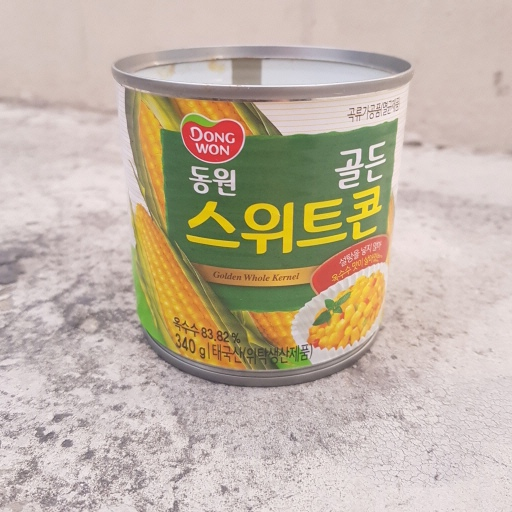Metal_1: (111, 44, 414, 387)
